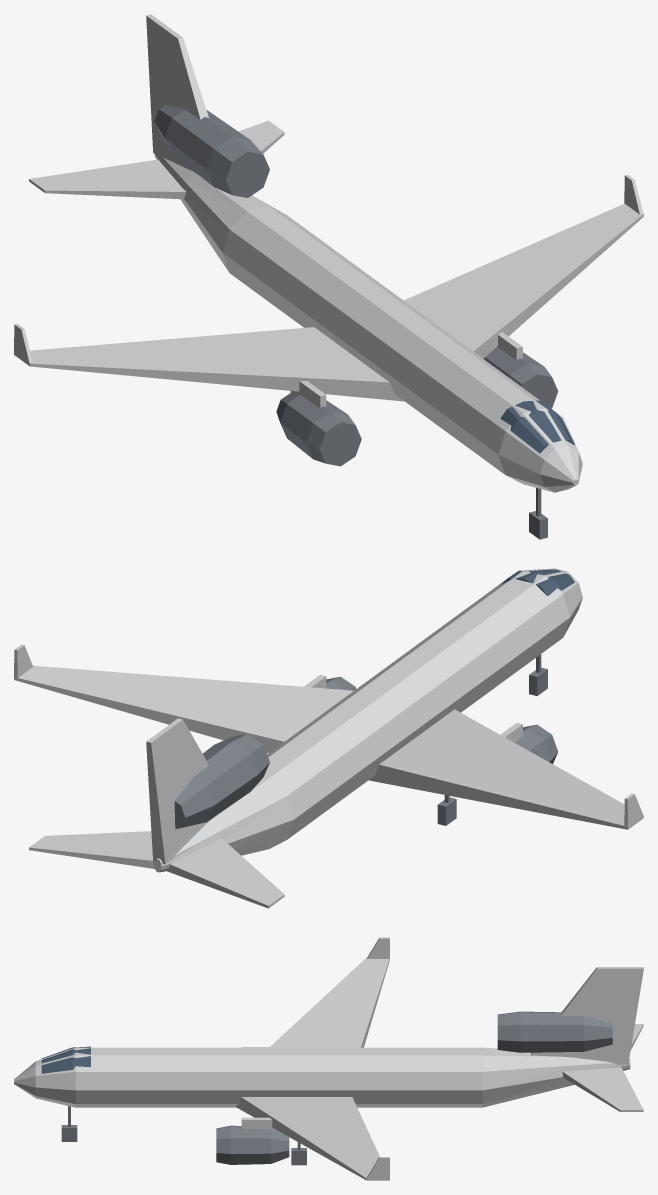
File: widebody-tri.glb
3 views of the same model, one above another, from view 1: azimuth 30°, elevation 25°; view 2: azimuth 150°, elevation 25°; view 3: azimuth 270°, elevation 25° (orthographic). The views are drawn at different scales.
Visible parts, largest first — view 1: widebody-tri; view 2: widebody-tri; view 3: widebody-tri.
Part boxes in pixels (bbox=[...]): widebody-tri: bbox=[14, 14, 643, 539]; widebody-tri: bbox=[14, 568, 643, 908]; widebody-tri: bbox=[14, 937, 643, 1180].
Bounding box in the file's own units: 1 × 0.3649 × 1.21.
